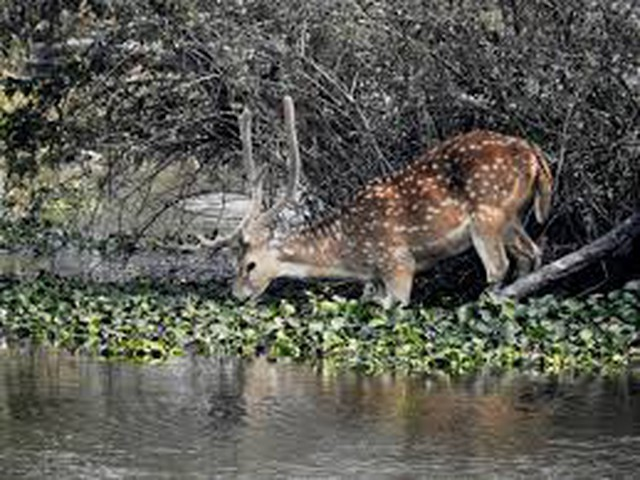deer: (222, 86, 568, 315)
